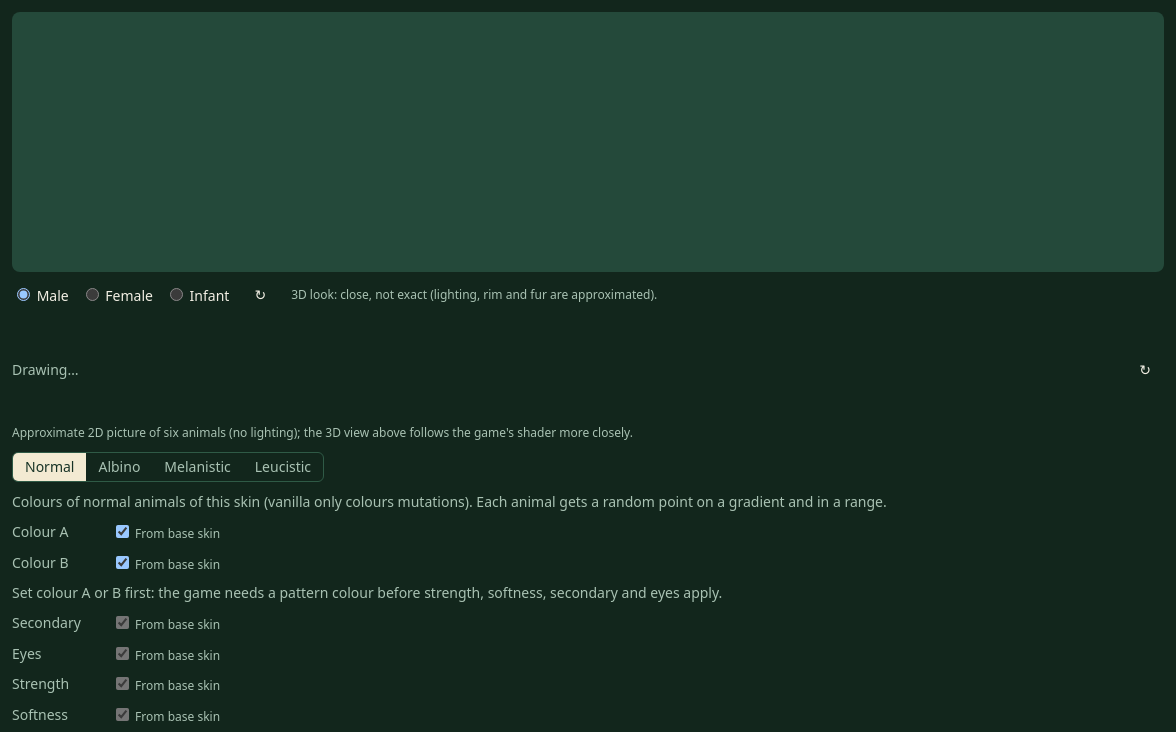
Test: ColourEditor › the preview shows the reason when it cannot draw
This screenshot has width=1176, height=732.
What coordinates should you click on to do the following:
click the button named "Show 6 other animals"
I would click on:
 (1145, 370)
Its box is [1126,353,1164,387].
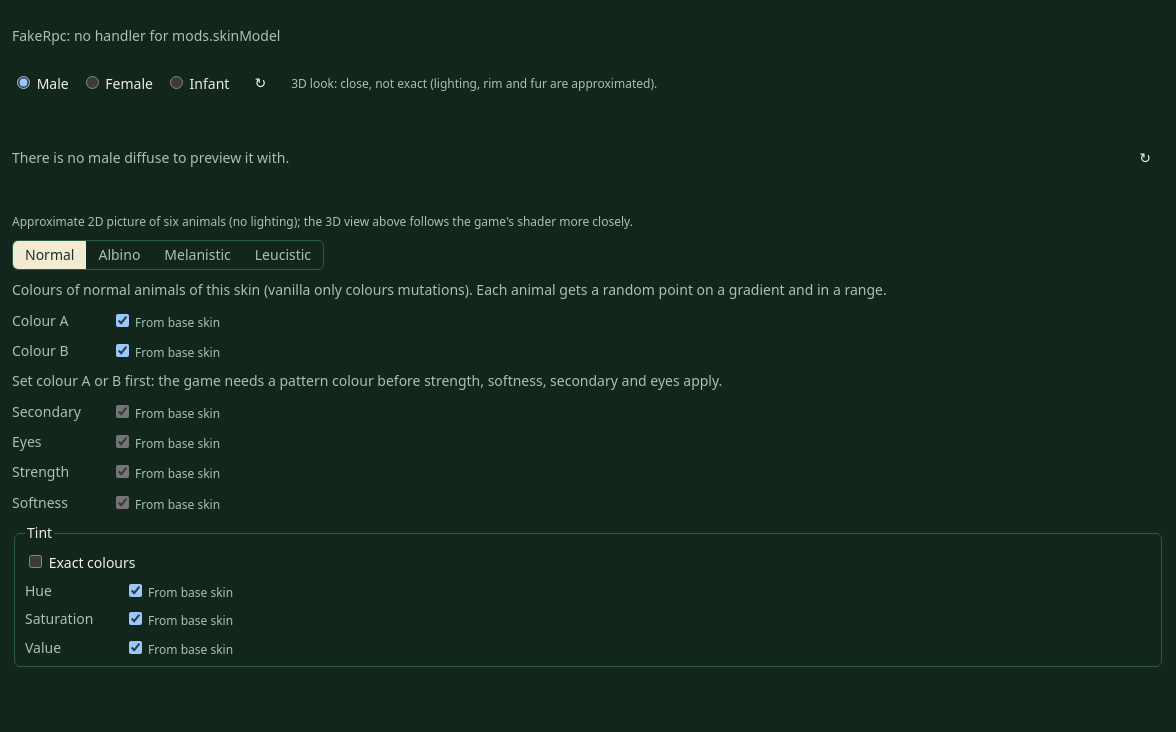
Expected: the text "There is no male diffuse to preview it with." is shown, [12,148,289,169]
